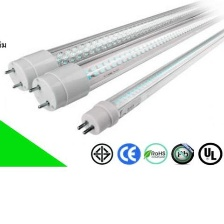light_bulb: (23, 0, 224, 113), (1, 0, 223, 94), (75, 22, 224, 138)
